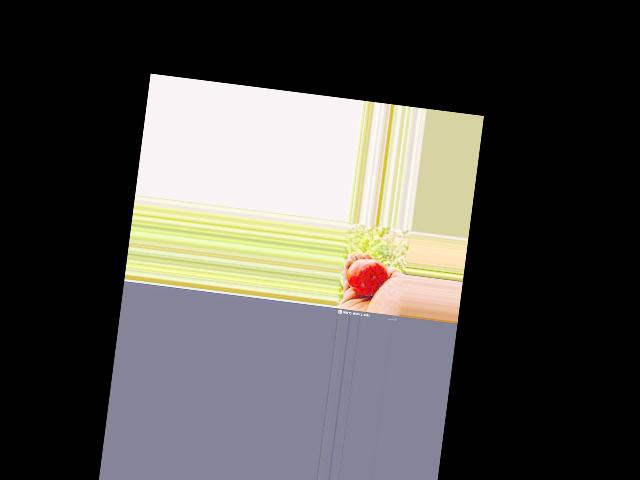tomato: (345, 257, 390, 298)
